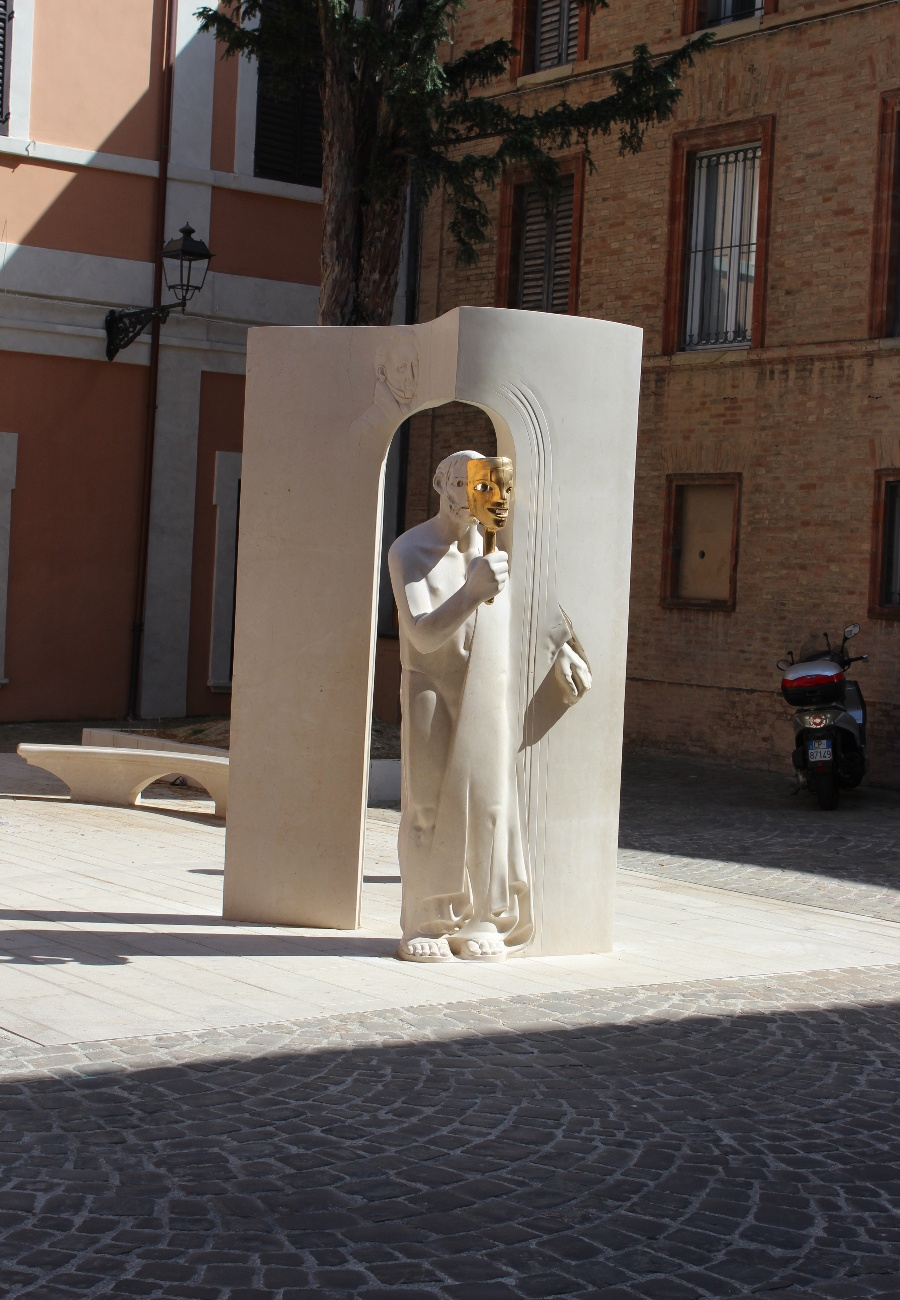Scultura della Memoria: (386, 451, 598, 963)
